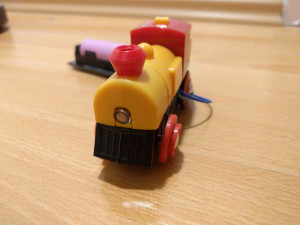brio: (90, 13, 195, 170)
